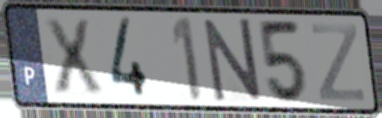1: (170, 13, 204, 104)
4: (107, 14, 151, 101)
5: (257, 18, 310, 106)
N: (201, 16, 265, 104)
X: (40, 16, 106, 97)
Z: (310, 21, 367, 104)
